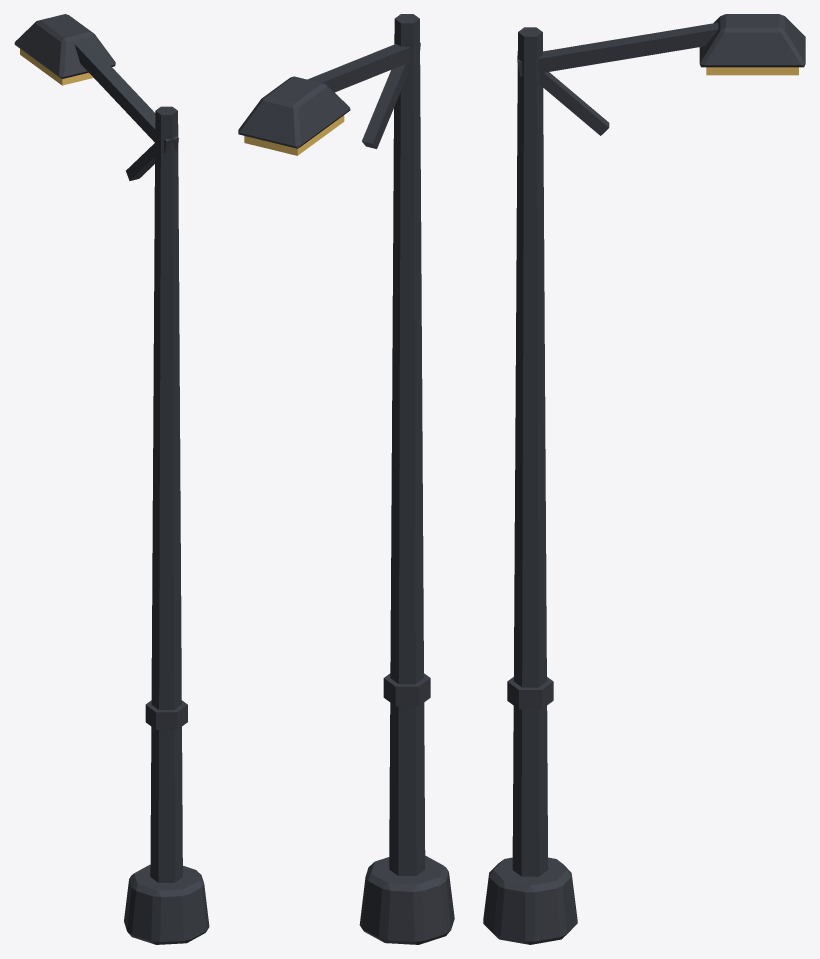
The model's file is Street_Lamp.glb.
3 views of the same model, side by side, from view 1: azimuth 30°, elevation 25°; view 2: azimuth 150°, elevation 25°; view 3: azimuth 270°, elevation 25° (orthographic). The views are drawn at different scales.
Parts seen in each view (by area): view 1: Street_Lamp_Pole, Street_Lamp_Bulb; view 2: Street_Lamp_Pole, Street_Lamp_Bulb; view 3: Street_Lamp_Pole, Street_Lamp_Bulb.
Part boxes in pixels (box(x1,y1,x2,y2)): Street_Lamp_Pole: box(14, 14, 209, 944); Street_Lamp_Bulb: box(20, 49, 93, 85); Street_Lamp_Pole: box(238, 14, 454, 944); Street_Lamp_Bulb: box(244, 115, 344, 155); Street_Lamp_Pole: box(483, 14, 805, 944); Street_Lamp_Bulb: box(706, 67, 798, 75).
Size of the model in its own units: 0.5302 by 5.62 by 1.81.
1 material, 1 textured.
